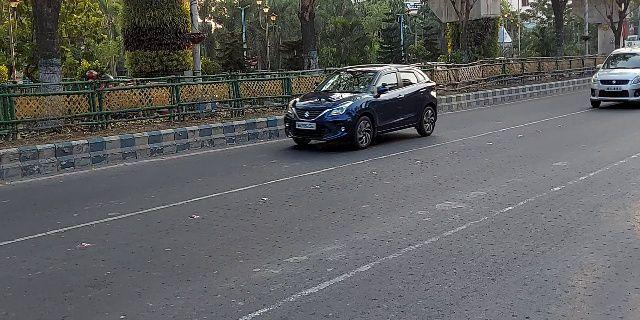Car: (283, 60, 442, 149), (587, 46, 639, 110)
